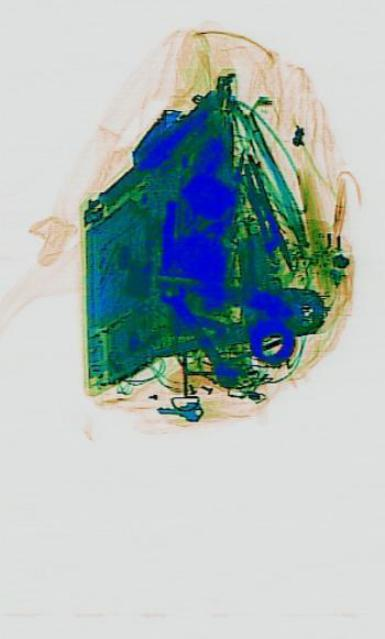Pliers: (148, 271, 323, 356)
Wrench: (157, 269, 240, 396)
